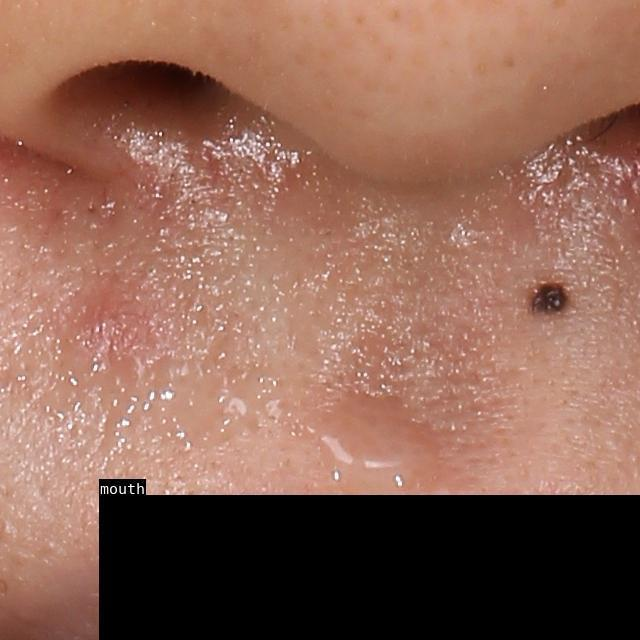nevus: (528, 278, 569, 317)
